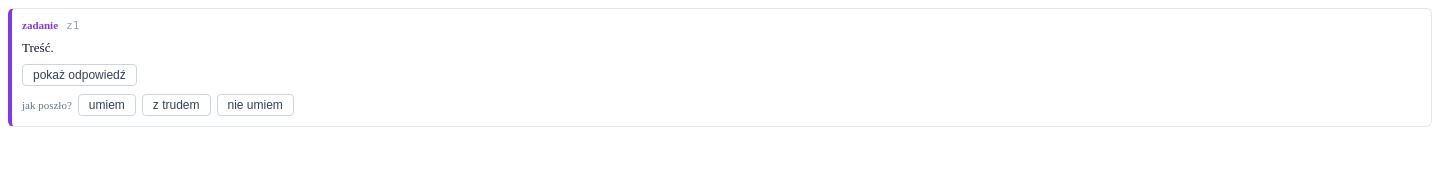
it: sprawdzanie bez żadnych obliczeń › odpowiedź z książki jest zakryta, dopóki się jej nie odsłoni
Expected: the text "prostopadłe" is not shown
Step 1. Click the button "pokaż odpowiedź" → (79, 75), box top-left (22, 64), bottom-right (137, 86)
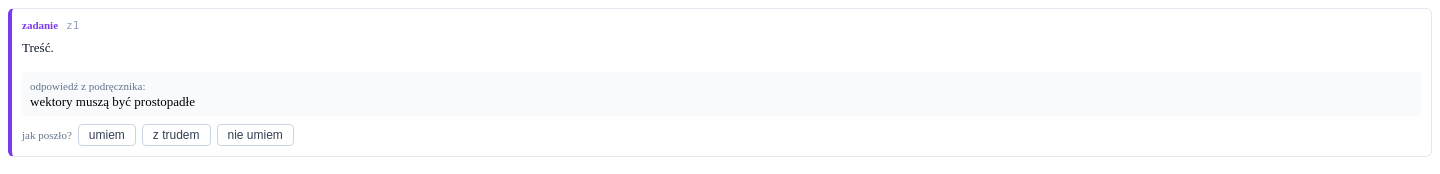
Now the text "prostopadłe" is shown, box top-left (30, 94), bottom-right (195, 109)
